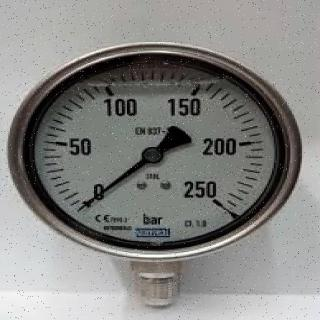gauge: (1, 35, 311, 272), (188, 180, 234, 220), (74, 183, 106, 217), (141, 146, 163, 164), (75, 202, 85, 214)
